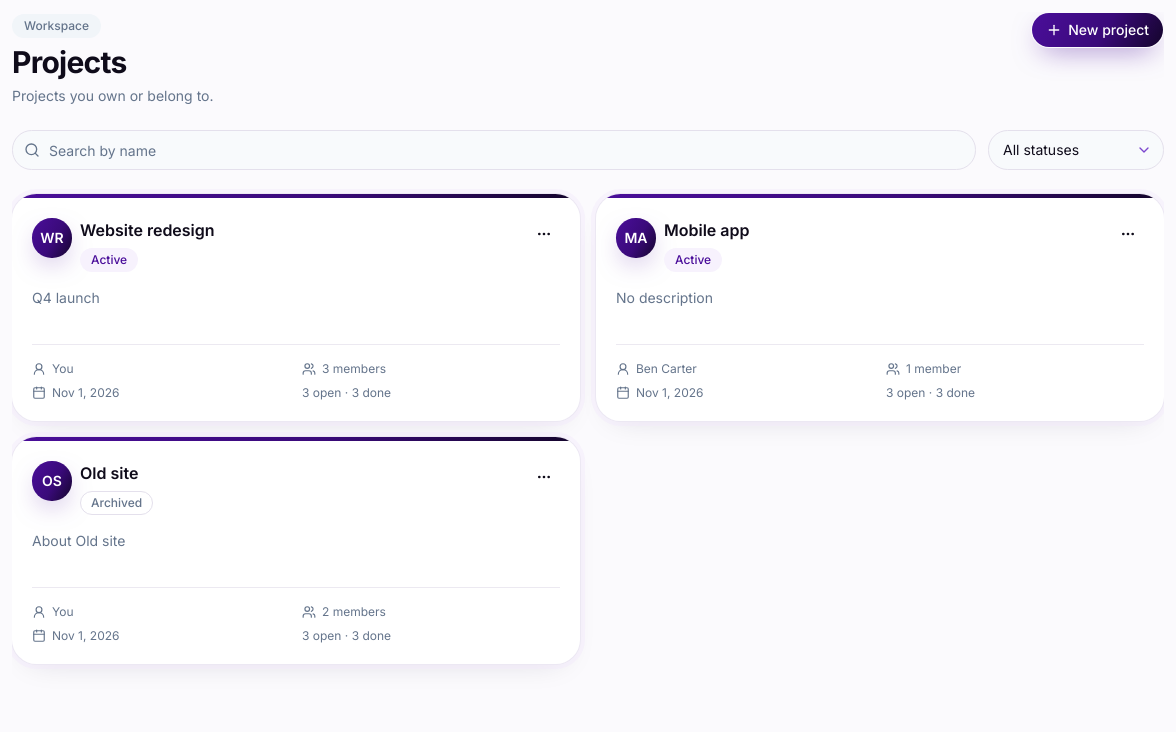
it: actions follow what the backend allows › offers Edit and Delete when allowed, Edit only when only update is allowed, neither otherwise
The image size is (1176, 732).
Expected: the heading "Projects" is shown, [12, 44, 126, 80]
Click the button named "Actions for Website redesign": coordinates (544, 234) [528, 218, 560, 250]
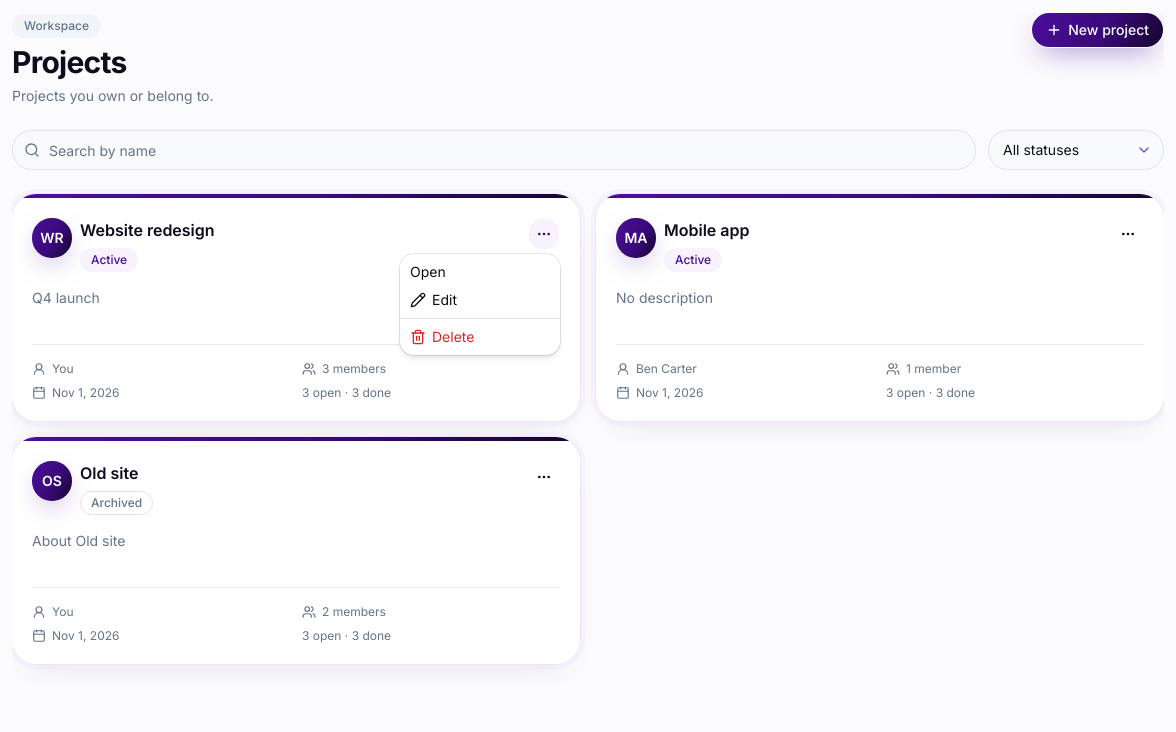
Expected: the menu item "Edit" is shown, [410, 291, 457, 308]
Expected: the menu item "Delete" is shown, [410, 328, 474, 345]
Press Escape
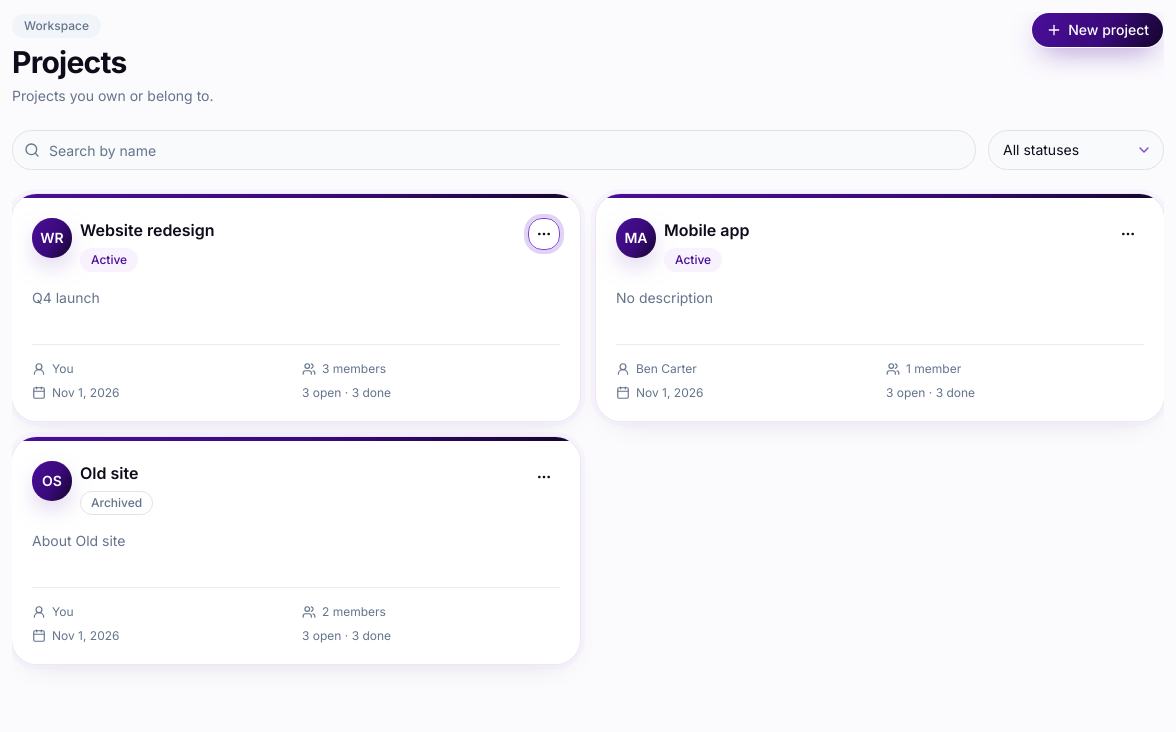
Click the button named "Actions for Mobile app": coordinates (1128, 234) [1112, 218, 1144, 250]
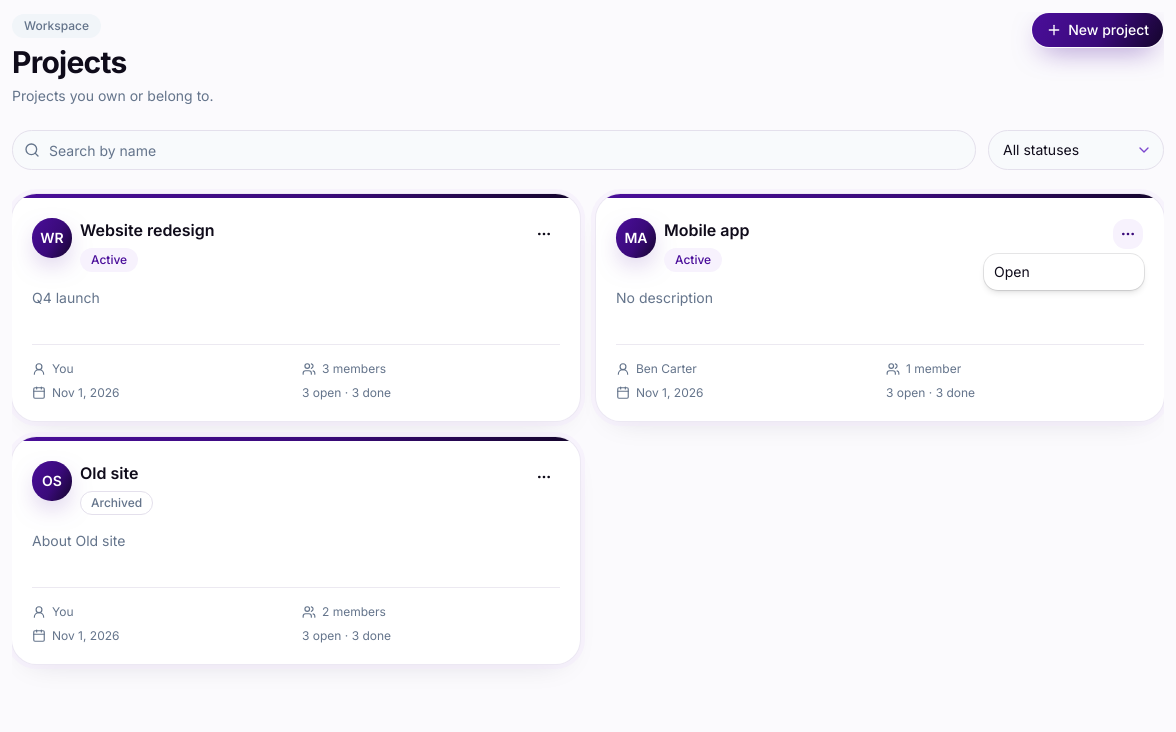
Expected: the menu item "Edit" is not shown
Expected: the menu item "Open" is shown, [994, 263, 1030, 280]
Press Escape
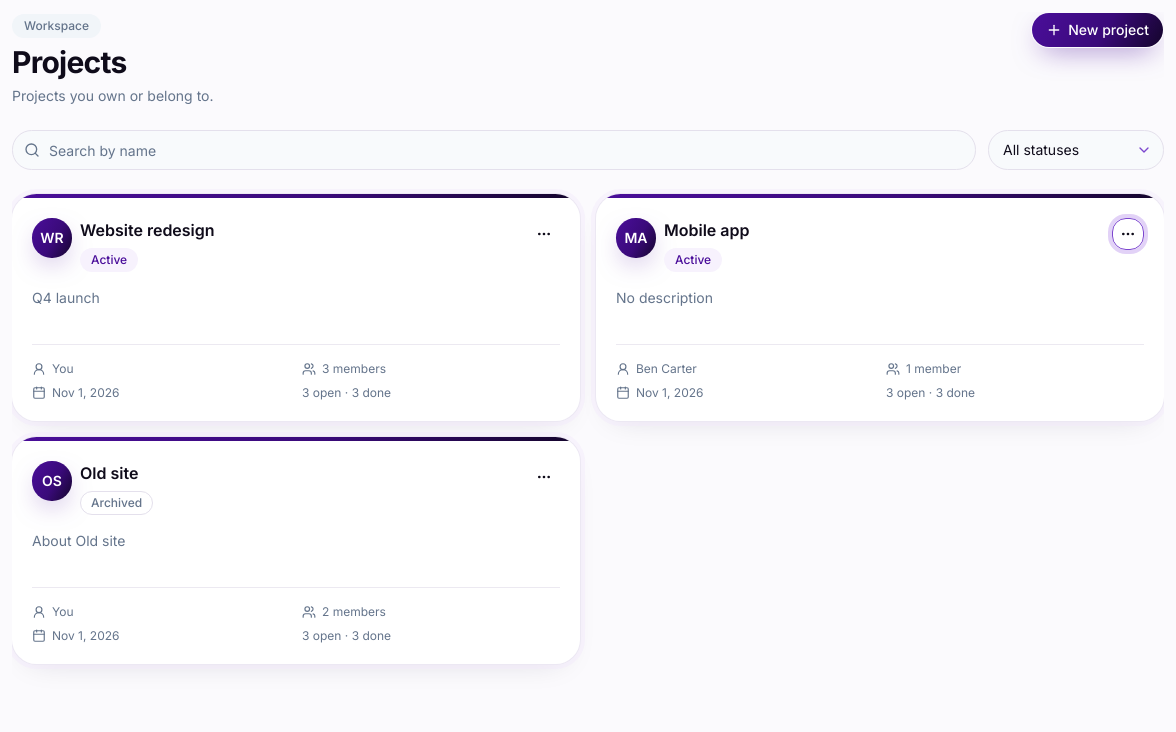
Click the button named "Actions for Old site": coordinates (544, 477) [528, 461, 560, 493]
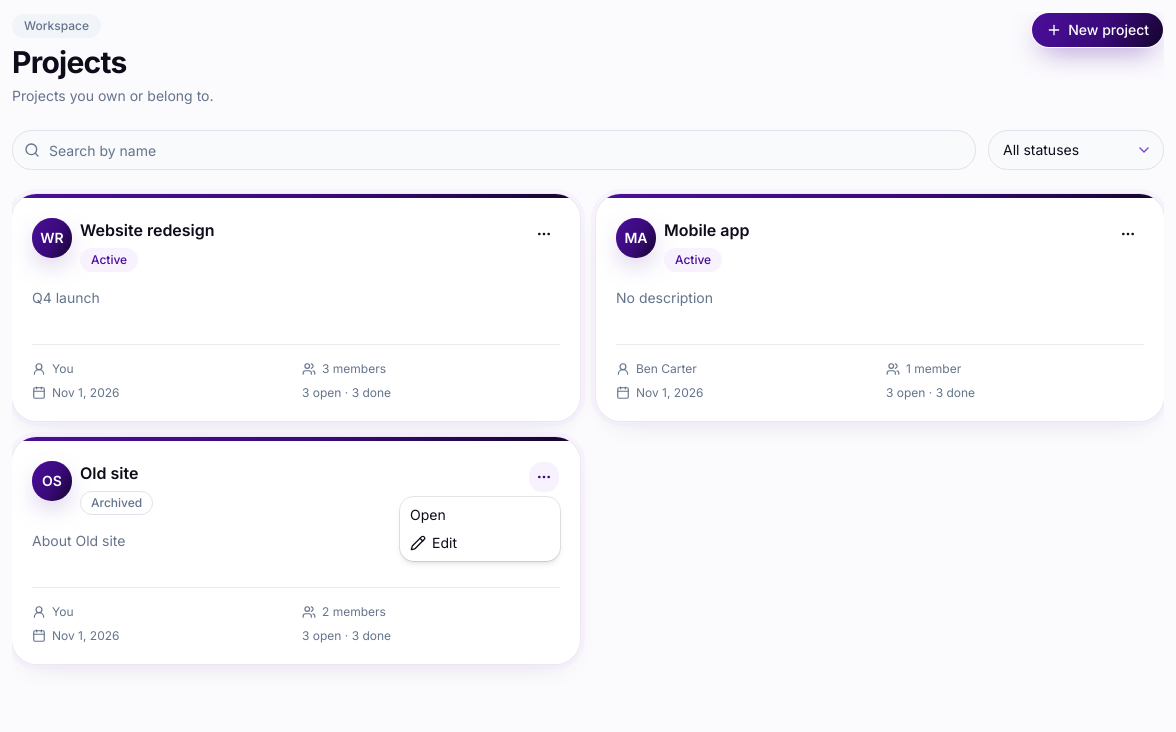
Expected: the menu item "Delete" is not shown
Expected: the menu item "Edit" is shown, [410, 534, 457, 551]
